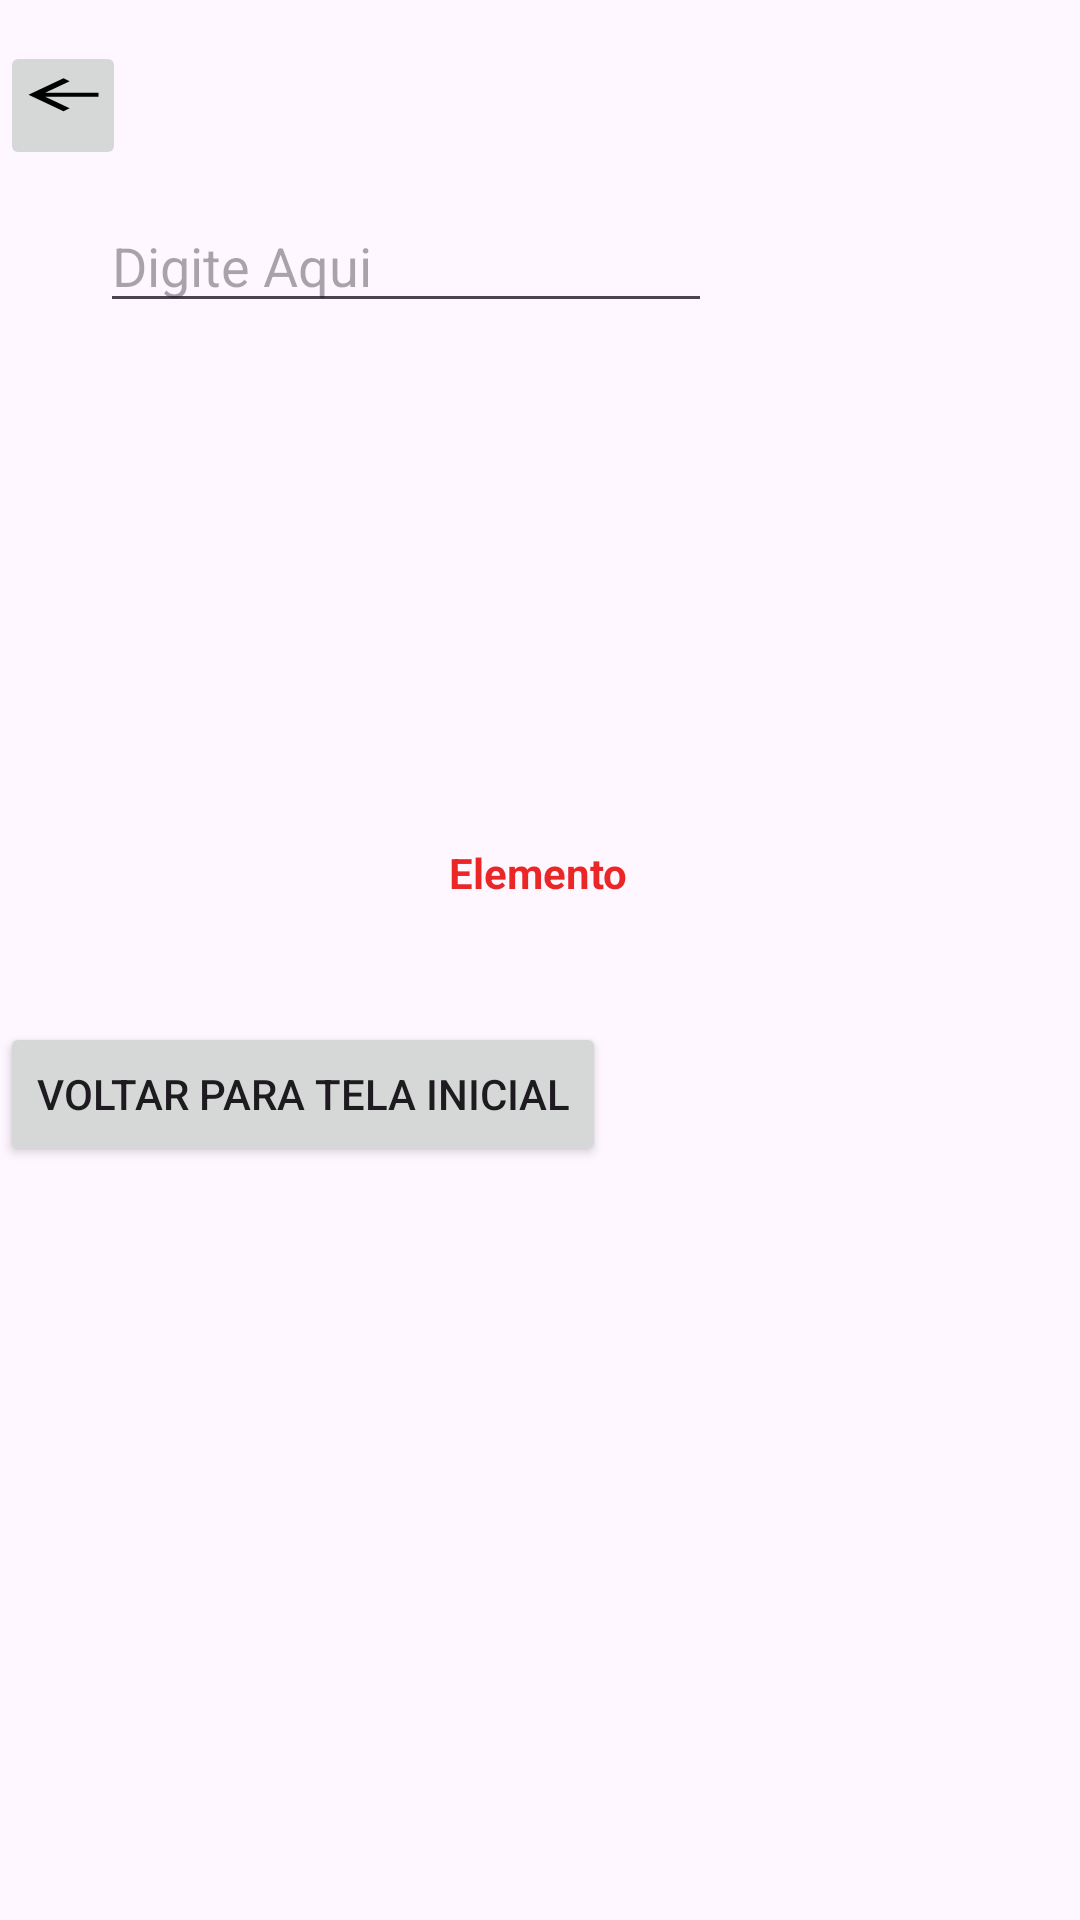

Icon click points for this 1080w x 1920h phone screenshot, format point (x, y):
arrow back: point (63, 105)
